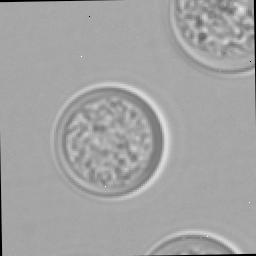picoshell: (52, 80, 172, 202), (172, 0, 255, 76), (146, 227, 251, 256)
